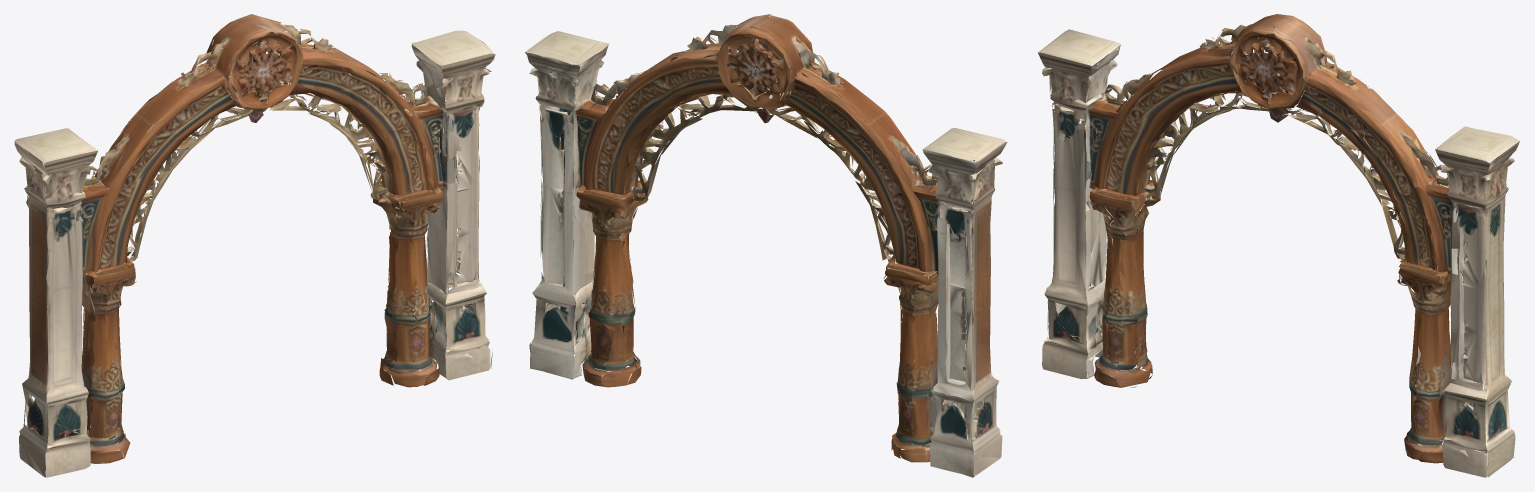
File: unified--detail--park-entry.glb
3 views of the same model, side by side, from view 1: azimuth 30°, elevation 25°; view 2: azimuth 150°, elevation 25°; view 3: azimuth 330°, elevation 25° (orthographic).
Parts seen in each view (by area): view 1: park-entry-0; view 2: park-entry-0; view 3: park-entry-0.
Boxes of the visible parts, bbox=[...] form: park-entry-0: bbox=[14, 14, 495, 477]; park-entry-0: bbox=[525, 14, 1007, 477]; park-entry-0: bbox=[1038, 14, 1519, 477].
Bounding box in the file's own units: 3.5 × 2.9 × 0.42.
1 material, 1 textured.
